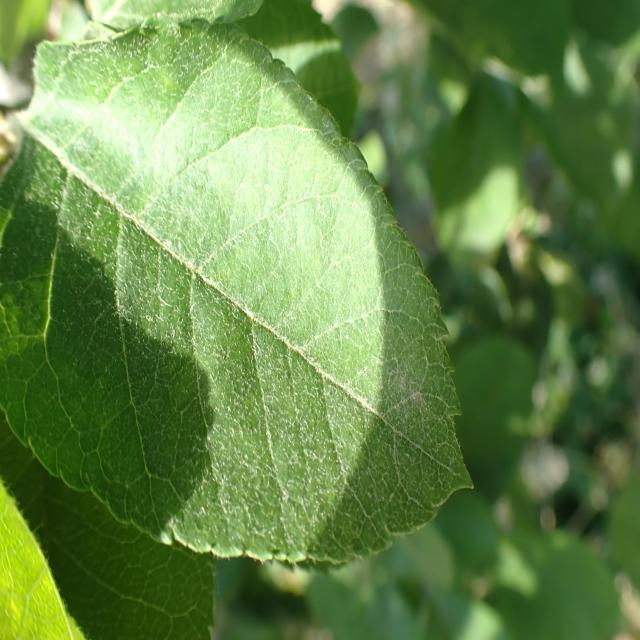healthy: (0, 18, 476, 566), (0, 403, 216, 639)
